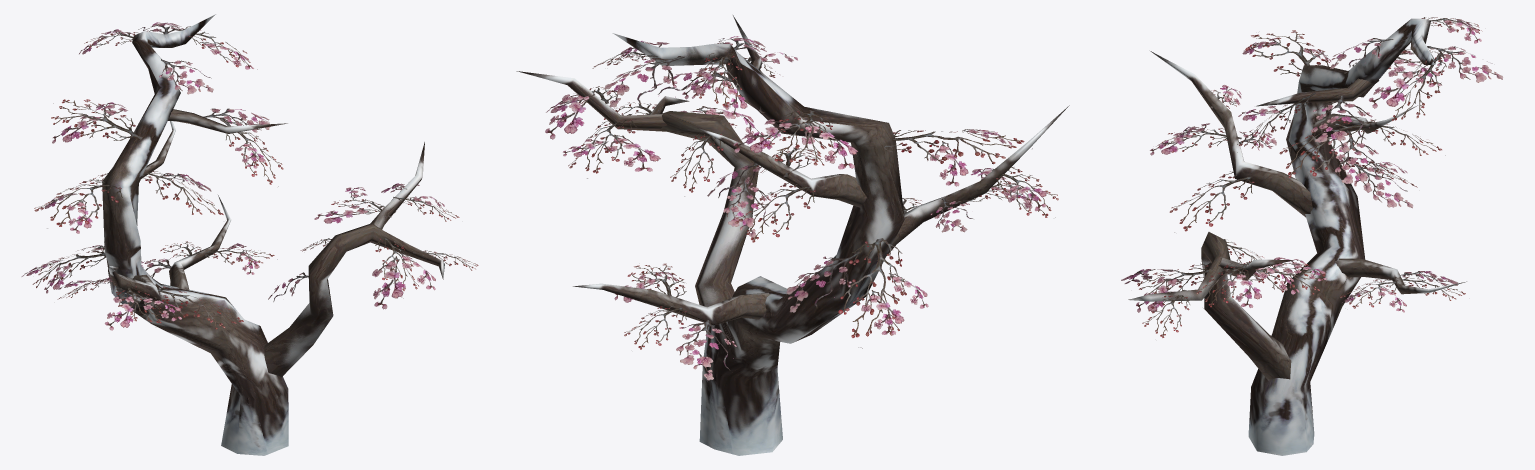
File: environment_Tree_xuemei01_B.FBX
The picture shows the model from 3 angles, left to right: view 1: azimuth 30°, elevation 25°; view 2: azimuth 150°, elevation 25°; view 3: azimuth 270°, elevation 25°; orthographic projection. The views are drawn at different scales.
Parts seen in each view (by area): view 1: environment_Tree_xuemei01_b_01, environment_Tree_xuemei01_b_02; view 2: environment_Tree_xuemei01_b_01, environment_Tree_xuemei01_b_02; view 3: environment_Tree_xuemei01_b_01, environment_Tree_xuemei01_b_02.
Boxes of the visible parts, x1=… form: environment_Tree_xuemei01_b_01: x1=102, y1=14, x2=444, y2=455; environment_Tree_xuemei01_b_02: x1=21, y1=22, x2=478, y2=330; environment_Tree_xuemei01_b_01: x1=516, y1=15, x2=1069, y2=455; environment_Tree_xuemei01_b_02: x1=545, y1=36, x2=1058, y2=380; environment_Tree_xuemei01_b_01: x1=1128, y1=18, x2=1466, y2=455; environment_Tree_xuemei01_b_02: x1=1121, y1=17, x2=1502, y2=337.
Size of the model in its own units: 440 by 362 by 380.
2 materials, 2 textured.
